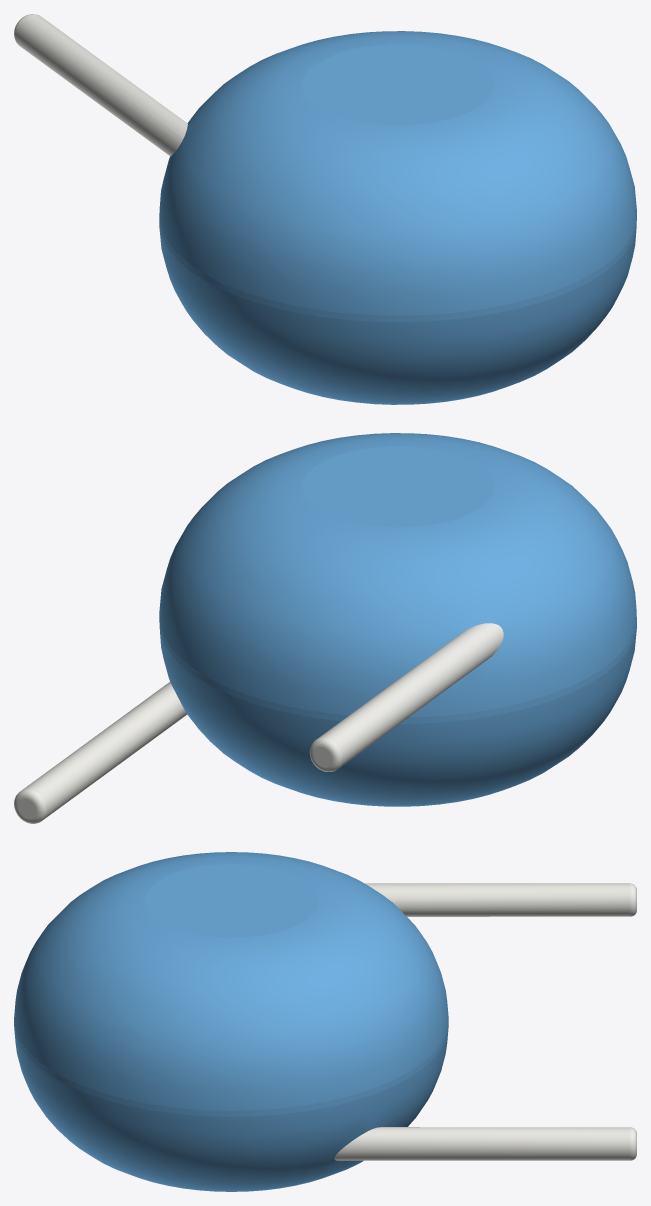
The model's file is RV_Disc_D7mm_W4.3mm_P5mm.glb.
The picture shows the model from 3 angles, top to bottom: view 1: azimuth 30°, elevation 25°; view 2: azimuth 150°, elevation 25°; view 3: azimuth 270°, elevation 25°; orthographic projection. The views are drawn at different scales.
Parts seen in each view (by area): view 1: Shape_IndexedFaceSet.001, Shape_IndexedFaceSet.002, Shape_IndexedFaceSet.003, Shape_IndexedFaceSet.004, Shape_IndexedFaceSet; view 2: Shape_IndexedFaceSet.001, Shape_IndexedFaceSet.002, Shape_IndexedFaceSet.003, Shape_IndexedFaceSet.004, Shape_IndexedFaceSet.006, Shape_IndexedFaceSet, Shape_IndexedFaceSet.008, Shape_IndexedFaceSet.007; view 3: Shape_IndexedFaceSet.001, Shape_IndexedFaceSet.002, Shape_IndexedFaceSet.003, Shape_IndexedFaceSet.006, Shape_IndexedFaceSet.004, Shape_IndexedFaceSet.
Part boxes in pixels (left/top/right/bottom): Shape_IndexedFaceSet.001: left=159, top=31, right=636, bottom=315; Shape_IndexedFaceSet.002: left=159, top=226, right=636, bottom=404; Shape_IndexedFaceSet.003: left=302, top=44, right=493, bottom=125; Shape_IndexedFaceSet.004: left=15, top=14, right=187, bottom=156; Shape_IndexedFaceSet: left=159, top=215, right=636, bottom=321; Shape_IndexedFaceSet.001: left=159, top=433, right=636, bottom=717; Shape_IndexedFaceSet.002: left=160, top=628, right=636, bottom=806; Shape_IndexedFaceSet.003: left=302, top=446, right=493, bottom=527; Shape_IndexedFaceSet.004: left=317, top=623, right=503, bottom=767; Shape_IndexedFaceSet.006: left=22, top=682, right=186, bottom=819; Shape_IndexedFaceSet: left=159, top=616, right=636, bottom=723; Shape_IndexedFaceSet.008: left=14, top=789, right=46, bottom=823; Shape_IndexedFaceSet.007: left=309, top=737, right=342, bottom=771; Shape_IndexedFaceSet.001: left=14, top=852, right=448, bottom=1110; Shape_IndexedFaceSet.002: left=14, top=1026, right=448, bottom=1191; Shape_IndexedFaceSet.003: left=144, top=864, right=318, bottom=937; Shape_IndexedFaceSet.006: left=334, top=1127, right=630, bottom=1160; Shape_IndexedFaceSet.004: left=365, top=883, right=630, bottom=916; Shape_IndexedFaceSet: left=14, top=1020, right=448, bottom=1116.
Bounding box in the file's own units: 2.76 × 1.69 × 3.95.
